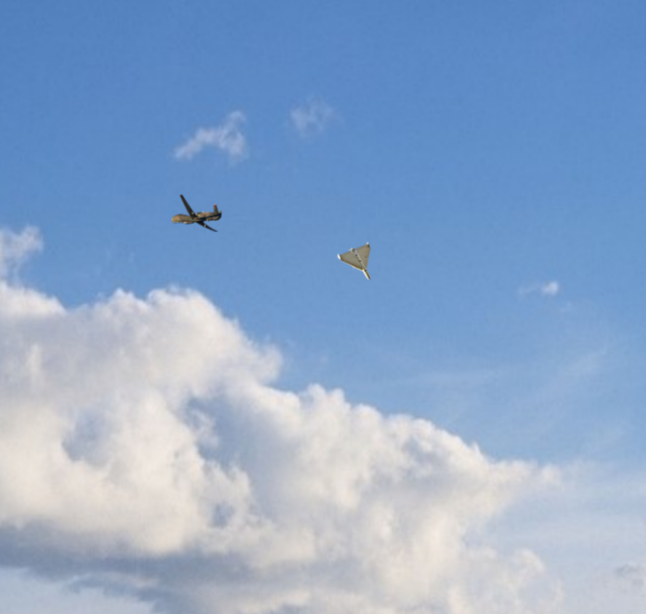military drone: (170, 193, 222, 232), (336, 241, 371, 280)
